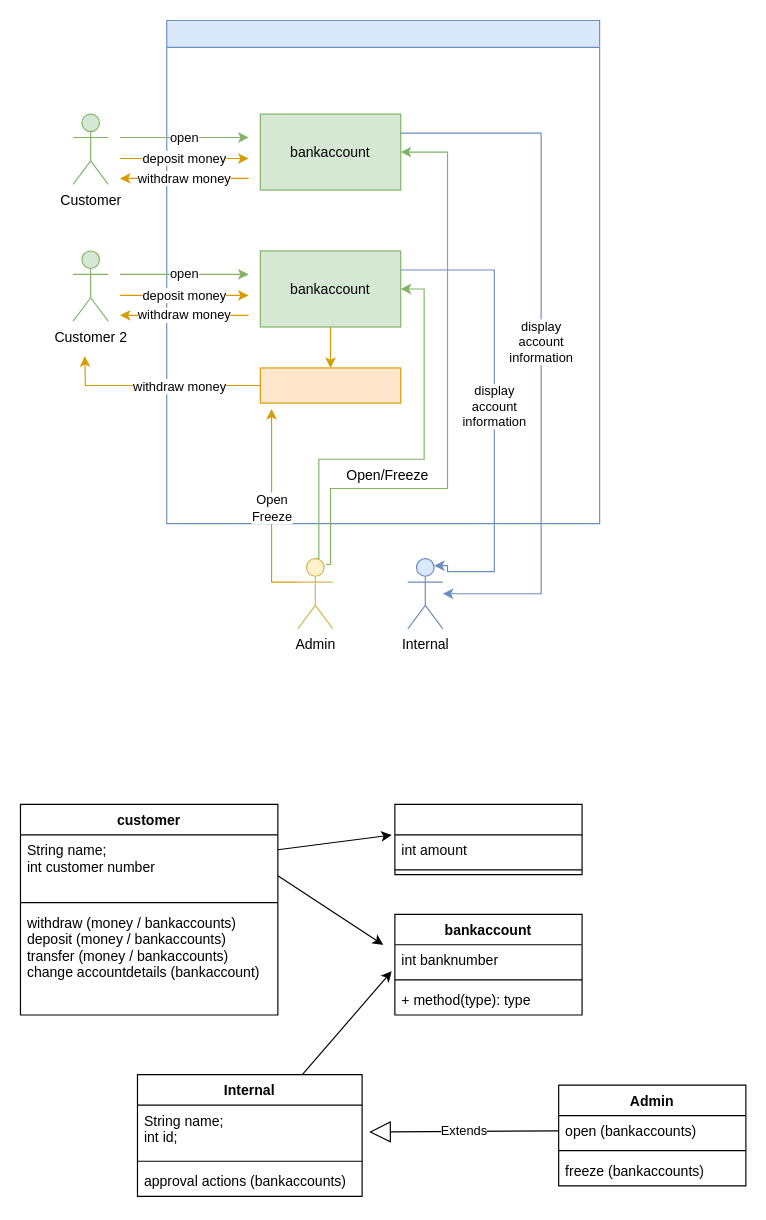
The diagram is 766 pixels wide and 1220 high, and some of its shapes have lost their labels. The shapes that lost their labels are listed below. From the top down, each one's box as (x1, y1, x2, y2) in pixels, then its label:
(166, 19, 600, 524): Online Banking
(259, 367, 401, 403): Credit Card
(394, 803, 582, 875): money
